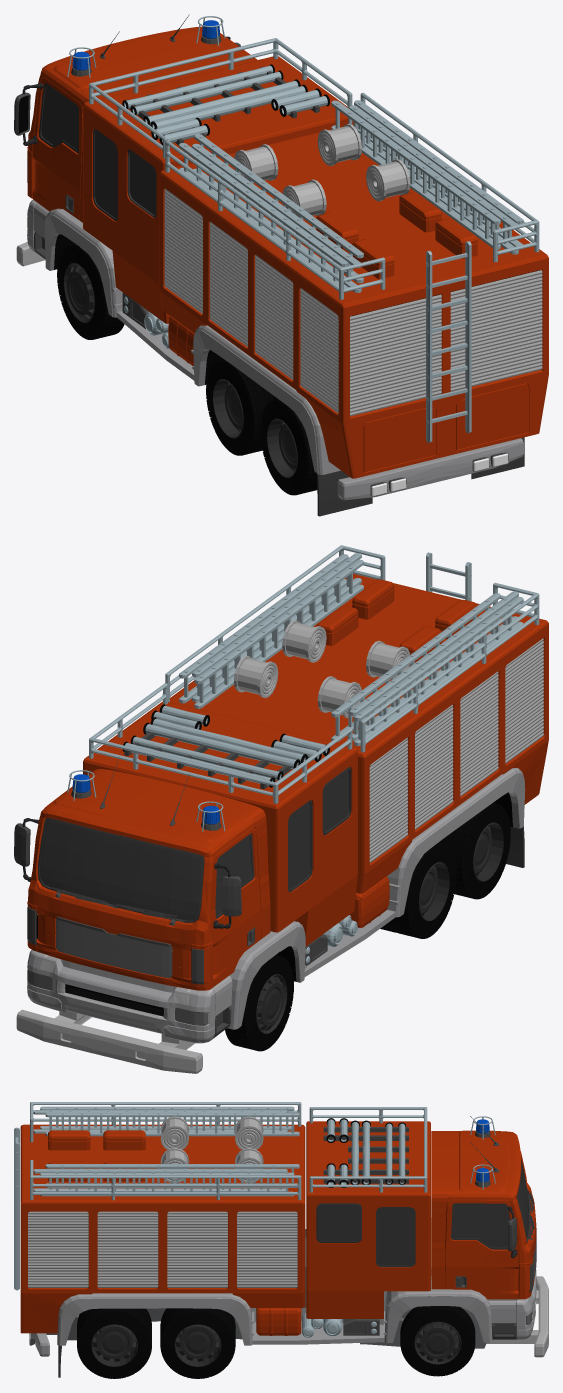
Rendered from firetruck.fbx.
3 renders of one model, top to bottom at view 1: azimuth 30°, elevation 25°; view 2: azimuth 150°, elevation 25°; view 3: azimuth 270°, elevation 25°, orthographic. The views are drawn at different scales.
Visible parts, largest first — view 1: subD, Non_subD, Non_subD.0, Non_subD.1, Non_subD.2, subD.1.3, subD.1, subD.1.2; view 2: subD, Non_subD, Non_subD.1, Non_subD.0, Non_subD.2, subD.1.3, subD.1.2, subD.1; view 3: subD, Non_subD, Non_subD.0, Non_subD.1, Non_subD.3, subD.1.4, subD.1.2, subD.1.
Part boxes in pixels (x1=…): subD: x1=14, y1=14, x2=548, y2=516; Non_subD: x1=144, y1=188, x2=542, y2=416; Non_subD.0: x1=206, y1=359, x2=277, y2=455; Non_subD.1: x1=260, y1=399, x2=317, y2=495; Non_subD.2: x1=57, y1=243, x2=124, y2=339; subD.1.3: x1=64, y1=263, x2=94, y2=322; subD.1: x1=267, y1=418, x2=297, y2=477; subD.1.2: x1=213, y1=379, x2=243, y2=438; subD: x1=14, y1=545, x2=548, y2=1073; Non_subD: x1=51, y1=638, x2=543, y2=946; Non_subD.1: x1=439, y1=803, x2=510, y2=899; Non_subD.0: x1=380, y1=842, x2=456, y2=938; Non_subD.2: x1=225, y1=955, x2=293, y2=1051; subD.1.3: x1=256, y1=974, x2=287, y2=1033; subD.1.2: x1=419, y1=862, x2=449, y2=921; subD.1: x1=473, y1=822, x2=503, y2=881; subD: x1=14, y1=1102, x2=548, y2=1377; Non_subD: x1=28, y1=1190, x2=534, y2=1337; Non_subD.0: x1=160, y1=1308, x2=235, y2=1378; Non_subD.1: x1=77, y1=1308, x2=151, y2=1378; Non_subD.3: x1=400, y1=1306, x2=475, y2=1376; subD.1.4: x1=414, y1=1321, x2=461, y2=1364; subD.1.2: x1=174, y1=1324, x2=221, y2=1366; subD.1: x1=91, y1=1324, x2=137, y2=1366.
Size of the model in its own units: 707 by 820 by 1876.
